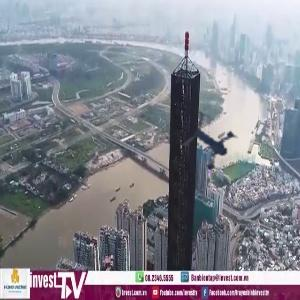drone: (180, 109, 256, 185)
